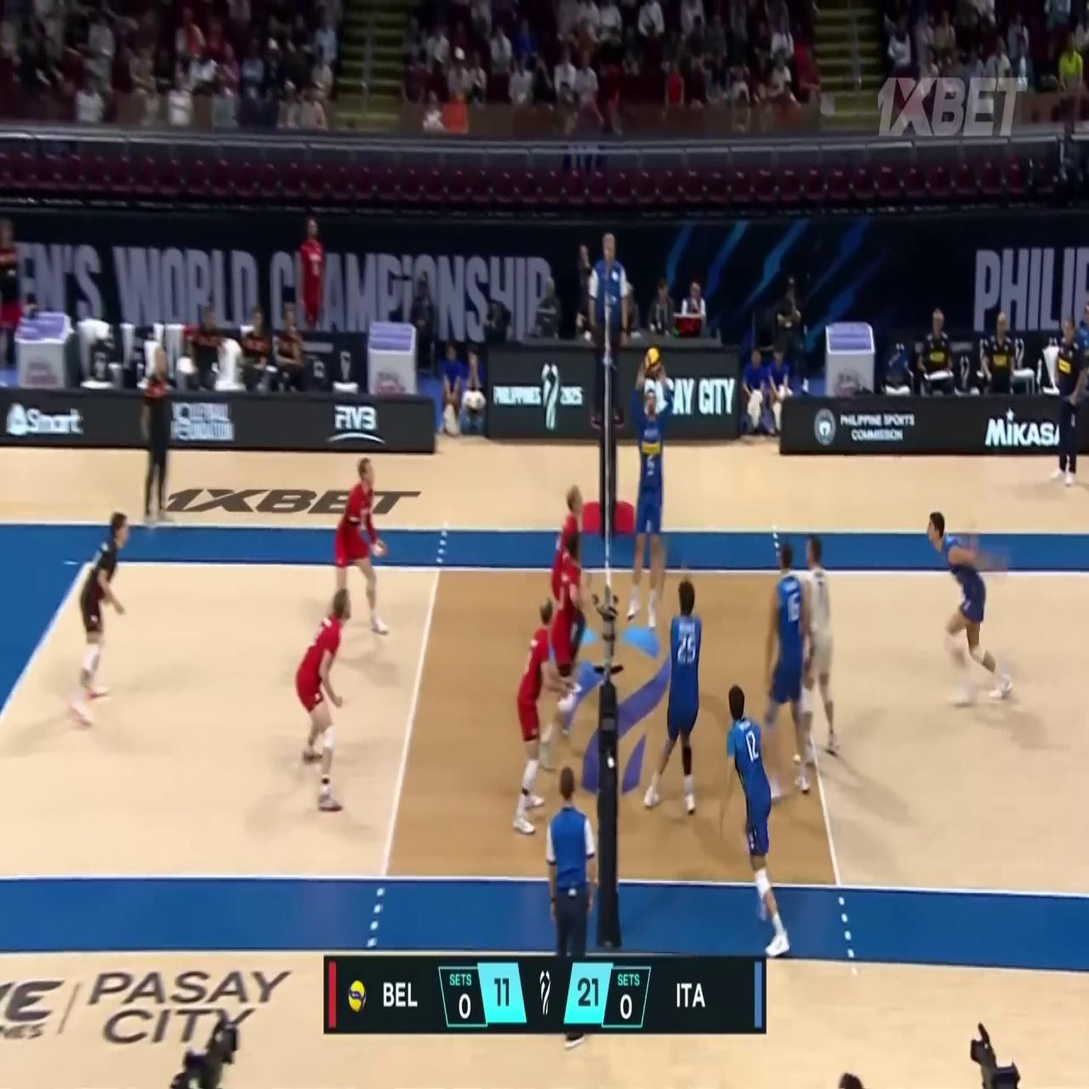ball: (644, 348, 660, 377)
